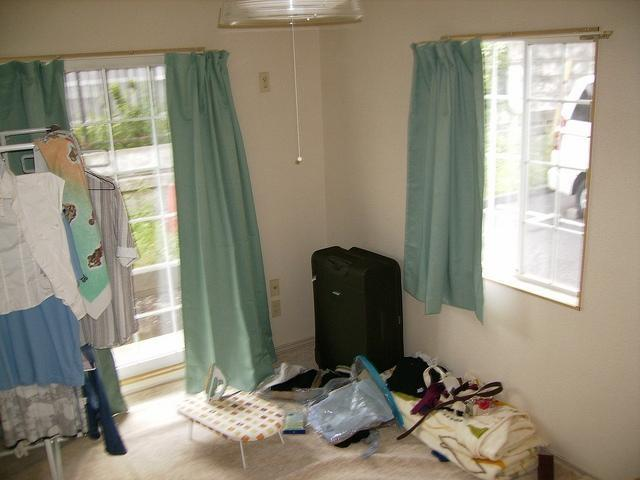car: (546, 74, 598, 226)
